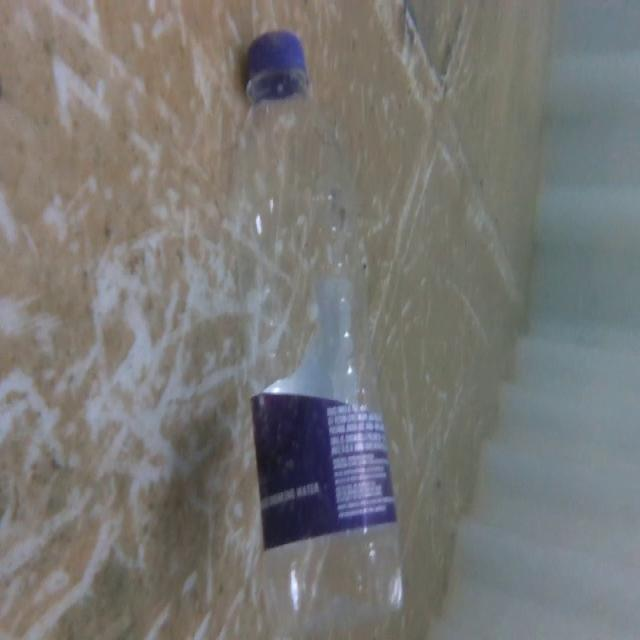plastic bottle: (220, 23, 419, 640)
